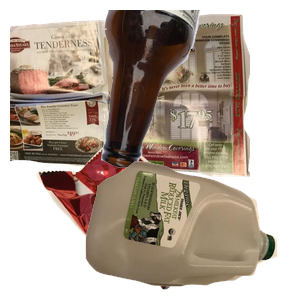glass: (99, 10, 300, 170)
paper: (10, 11, 250, 180)
plastic: (83, 159, 300, 300)
trash: (34, 136, 253, 300)
